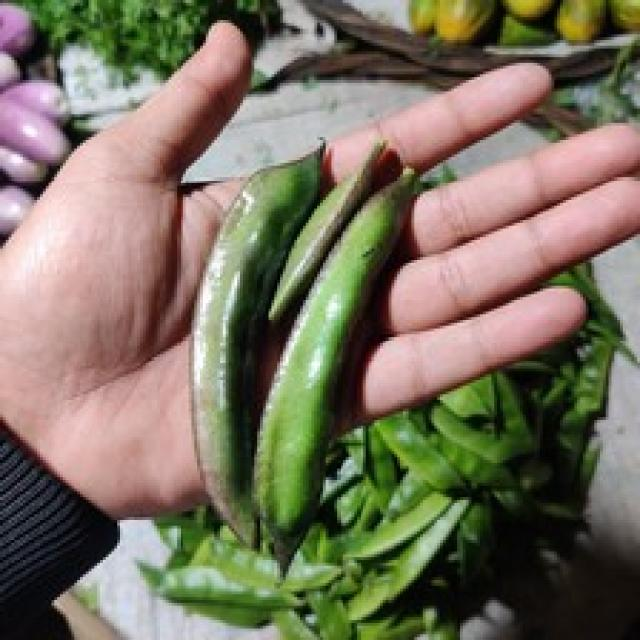Bean: (188, 149, 410, 562)
